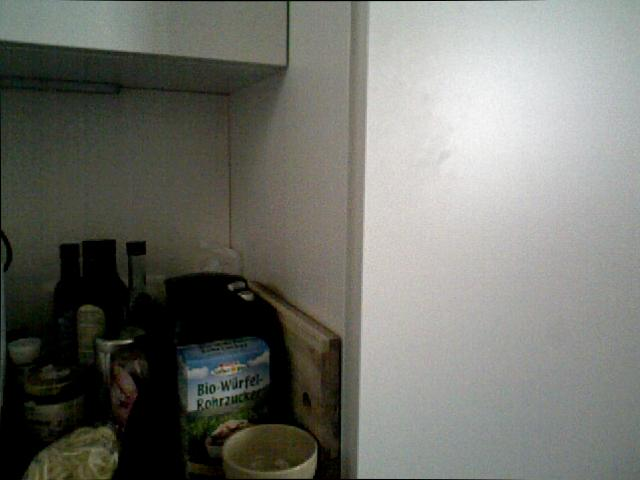bench: (53, 242, 81, 328), (130, 238, 147, 310), (103, 242, 119, 315), (86, 238, 99, 326)
bird: (221, 423, 318, 479)
hot dog: (298, 6, 640, 480)
